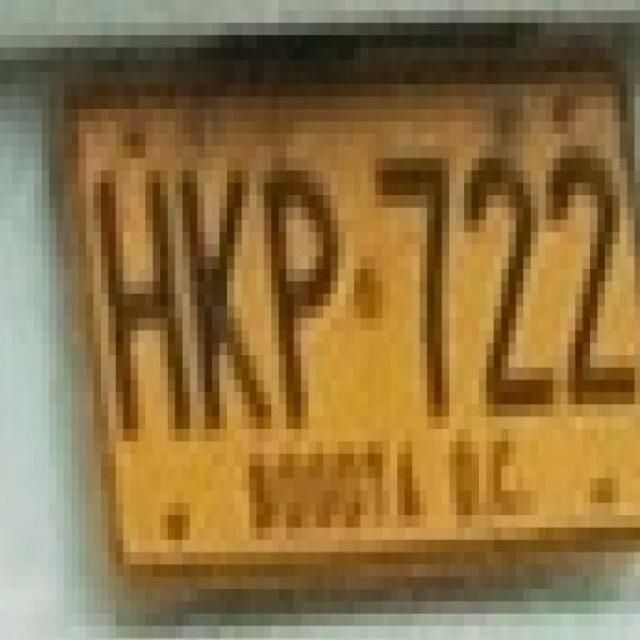license-plate: (76, 96, 640, 563)
